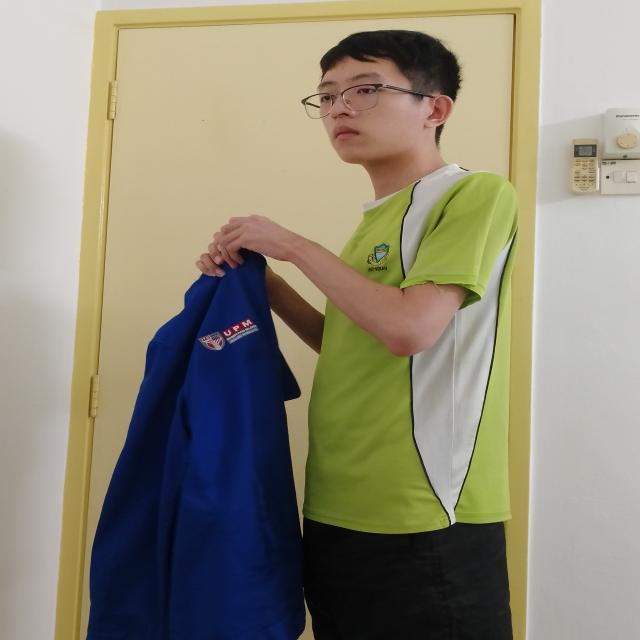person_without_labcoat: (89, 30, 518, 640)
